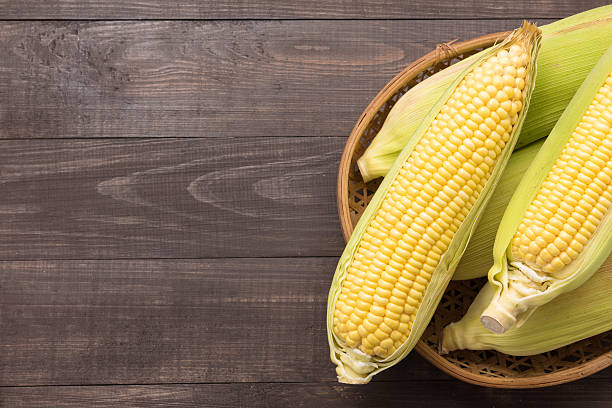corn: (343, 21, 534, 391)
